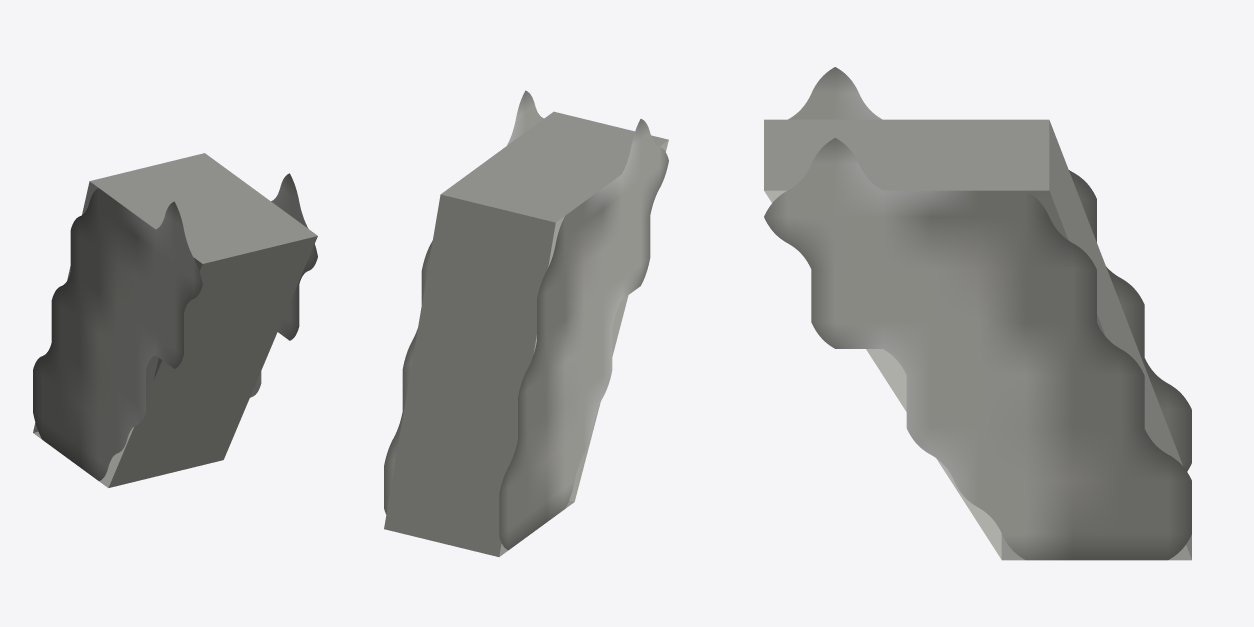
The model's file is pz_native_fixtures_railings_01_111_frame.obj.
3 views of the same model, side by side, from view 1: azimuth 30°, elevation 25°; view 2: azimuth 150°, elevation 25°; view 3: azimuth 270°, elevation 25° (orthographic). The views are drawn at different scales.
Visible parts, largest first — view 1: pz_native_fixtures_railings_01_111_frame; view 2: pz_native_fixtures_railings_01_111_frame; view 3: pz_native_fixtures_railings_01_111_frame.
Part boxes in pixels (x1,y1,x2,y2): pz_native_fixtures_railings_01_111_frame: (33, 153, 317, 487); pz_native_fixtures_railings_01_111_frame: (384, 90, 668, 556); pz_native_fixtures_railings_01_111_frame: (764, 67, 1191, 560).
Size of the model in its own units: 0.045 by 0.1562 by 0.1403.
1 material, 1 textured.
